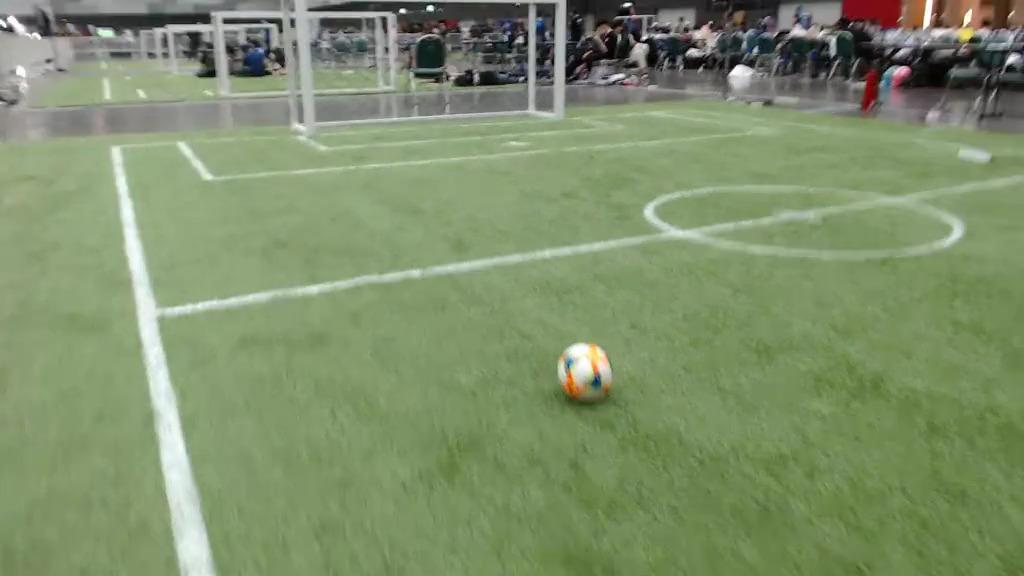ball: (559, 344, 613, 399)
